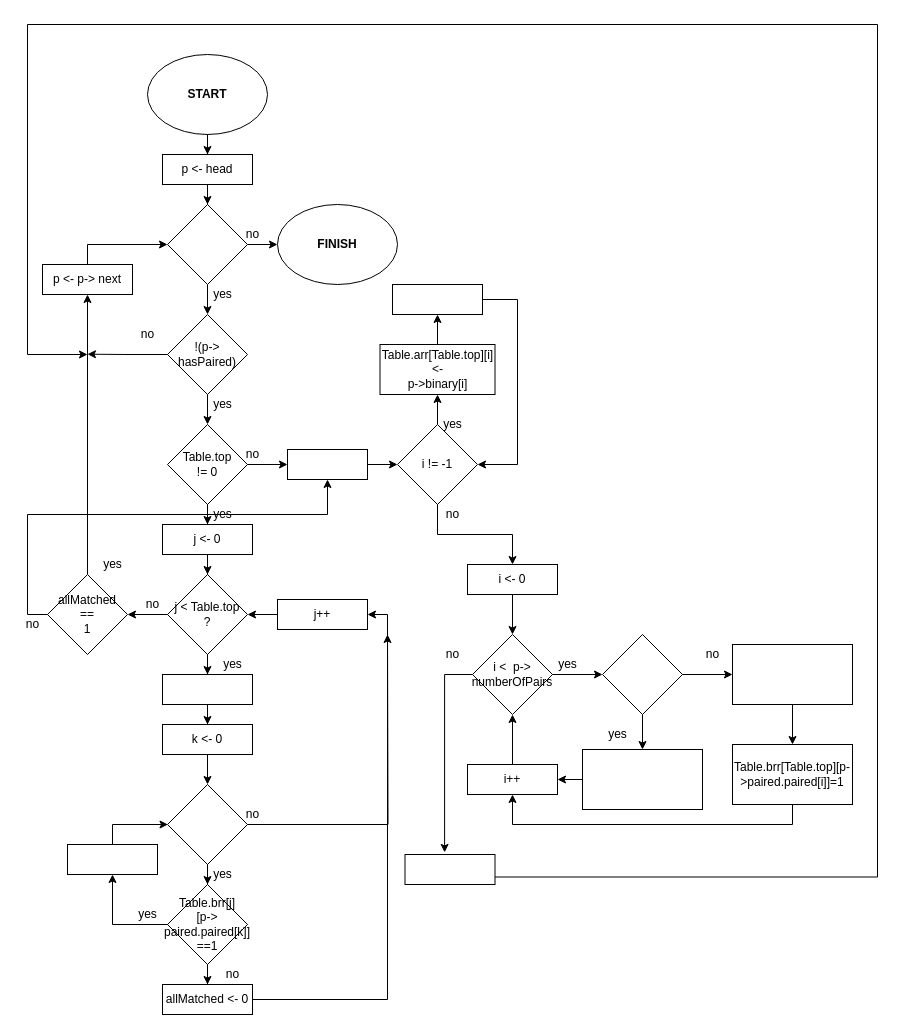
Image size: 903x1032. Some labels were removed from this diagram. Here are the shapes that lost their labels. From the top down, the box of each, then its label:
(166, 204, 248, 284): p != NULL
(392, 284, 482, 314): i--
(286, 448, 368, 480): i <- ukuranBit - 1
(162, 674, 252, 704): allMatched <- 1
(602, 634, 682, 714): cekDontCare (p-> paired.paired[i])==1
(732, 644, 852, 704): Table.mintermCounter [Table.top]++
(582, 748, 702, 810): Table.brr[Table.top][p->paired.paired[i]]=-1
(166, 784, 248, 864): k < p-> numberOfPairs ?
(66, 844, 158, 874): k++
(404, 854, 495, 884): Table.top++
